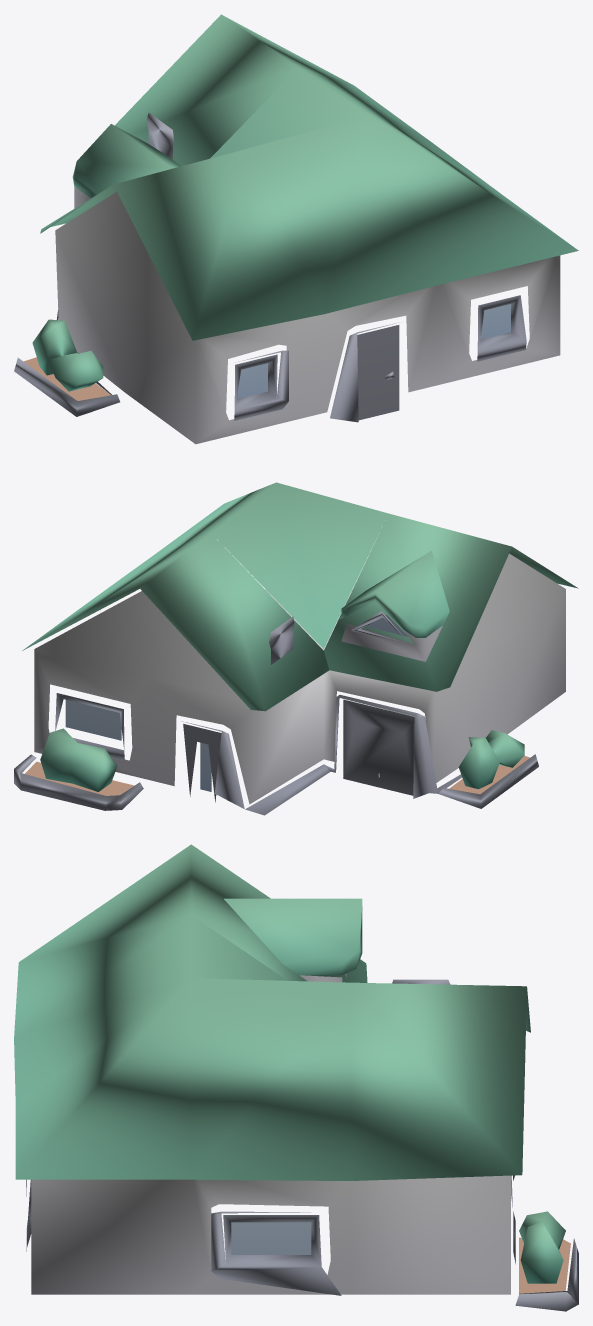
3 views of the same model, one above another, from view 1: azimuth 30°, elevation 25°; view 2: azimuth 150°, elevation 25°; view 3: azimuth 270°, elevation 25° (orthographic). The views are drawn at different scales.
Size of the model in its own units: 11.21 by 5.9 by 11.31.
